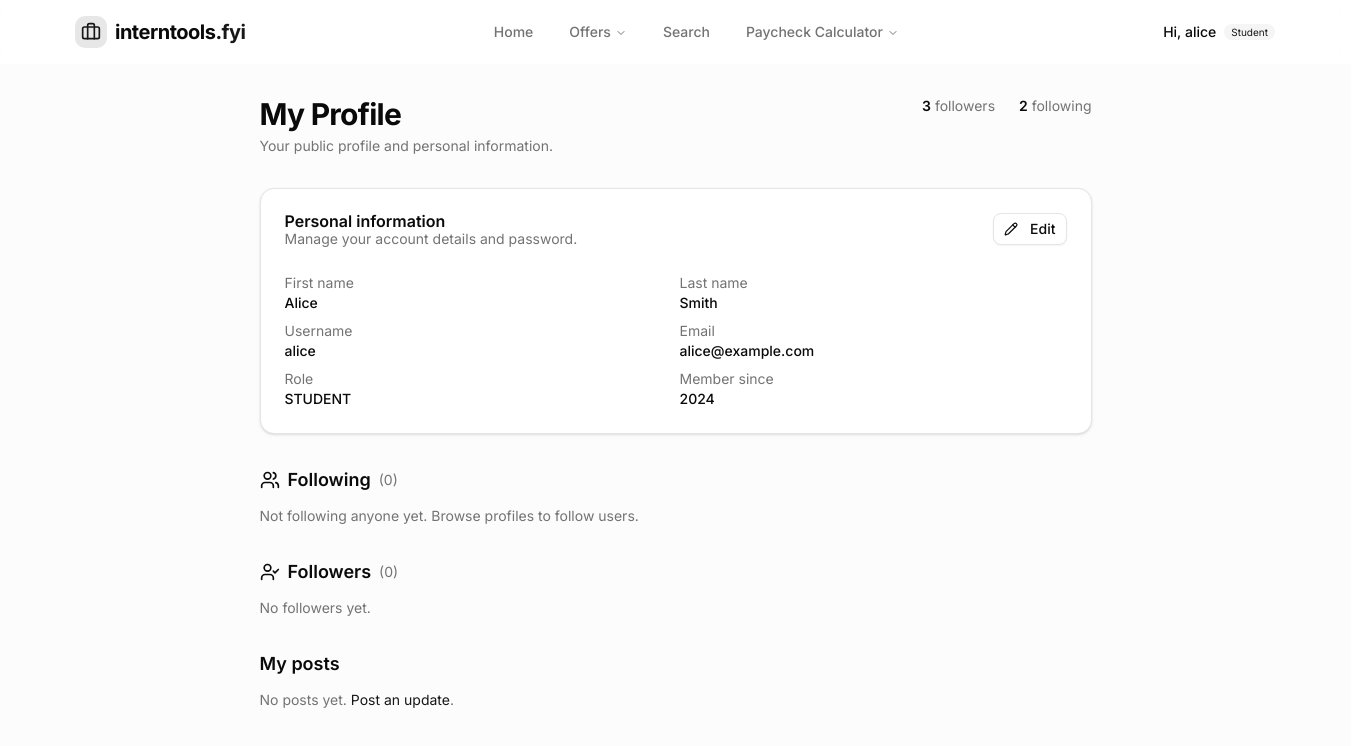
it: /profile page › opens the edit form with pre-filled values when Edit is clicked
Click the button "Edit": (1030, 229) [993,213,1066,245]
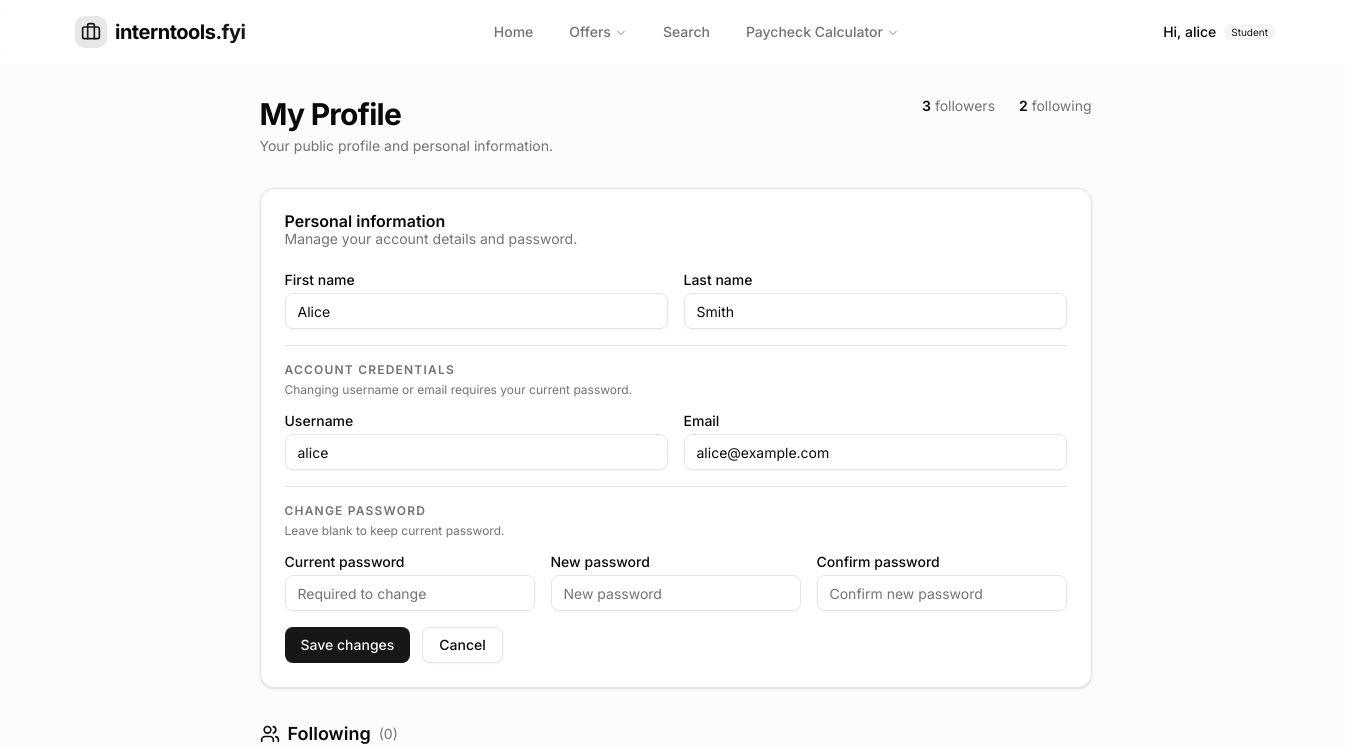
Check: the field labelled "First name" holds "Alice", box [284,293,668,329]
Check: the field labelled "Last name" holds "Smith", box [684,293,1066,329]
Check: the field labelled "Username" holds "alice", box [284,434,668,470]
